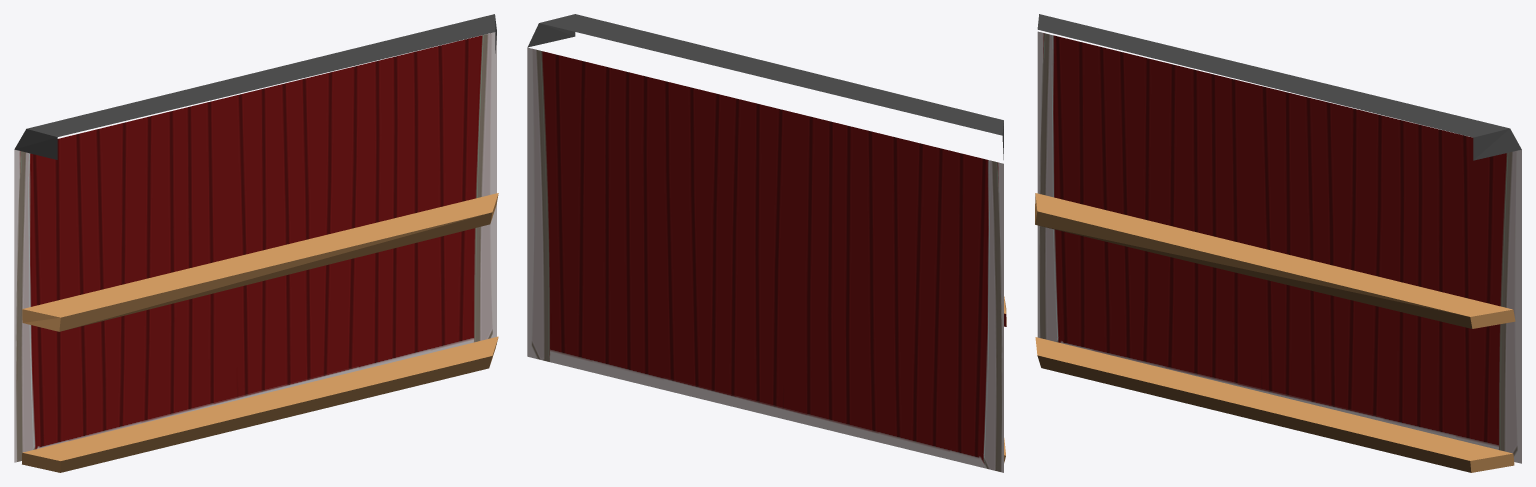
File: barn.obj
3 renders of one model, left to right at view 1: azimuth 30°, elevation 25°; view 2: azimuth 150°, elevation 25°; view 3: azimuth 330°, elevation 25°, orthographic.
Parts seen in each view (by area): view 1: Cube.003; view 2: Cube.003; view 3: Cube.003.
Boxes of the visible parts, x1=… form: Cube.003: x1=14, y1=14, x2=498, y2=472; Cube.003: x1=527, y1=14, x2=1006, y2=472; Cube.003: x1=1035, y1=14, x2=1521, y2=472.
Size of the model in its own units: 19.52 by 13.01 by 1.67.
1 material, 1 textured.
